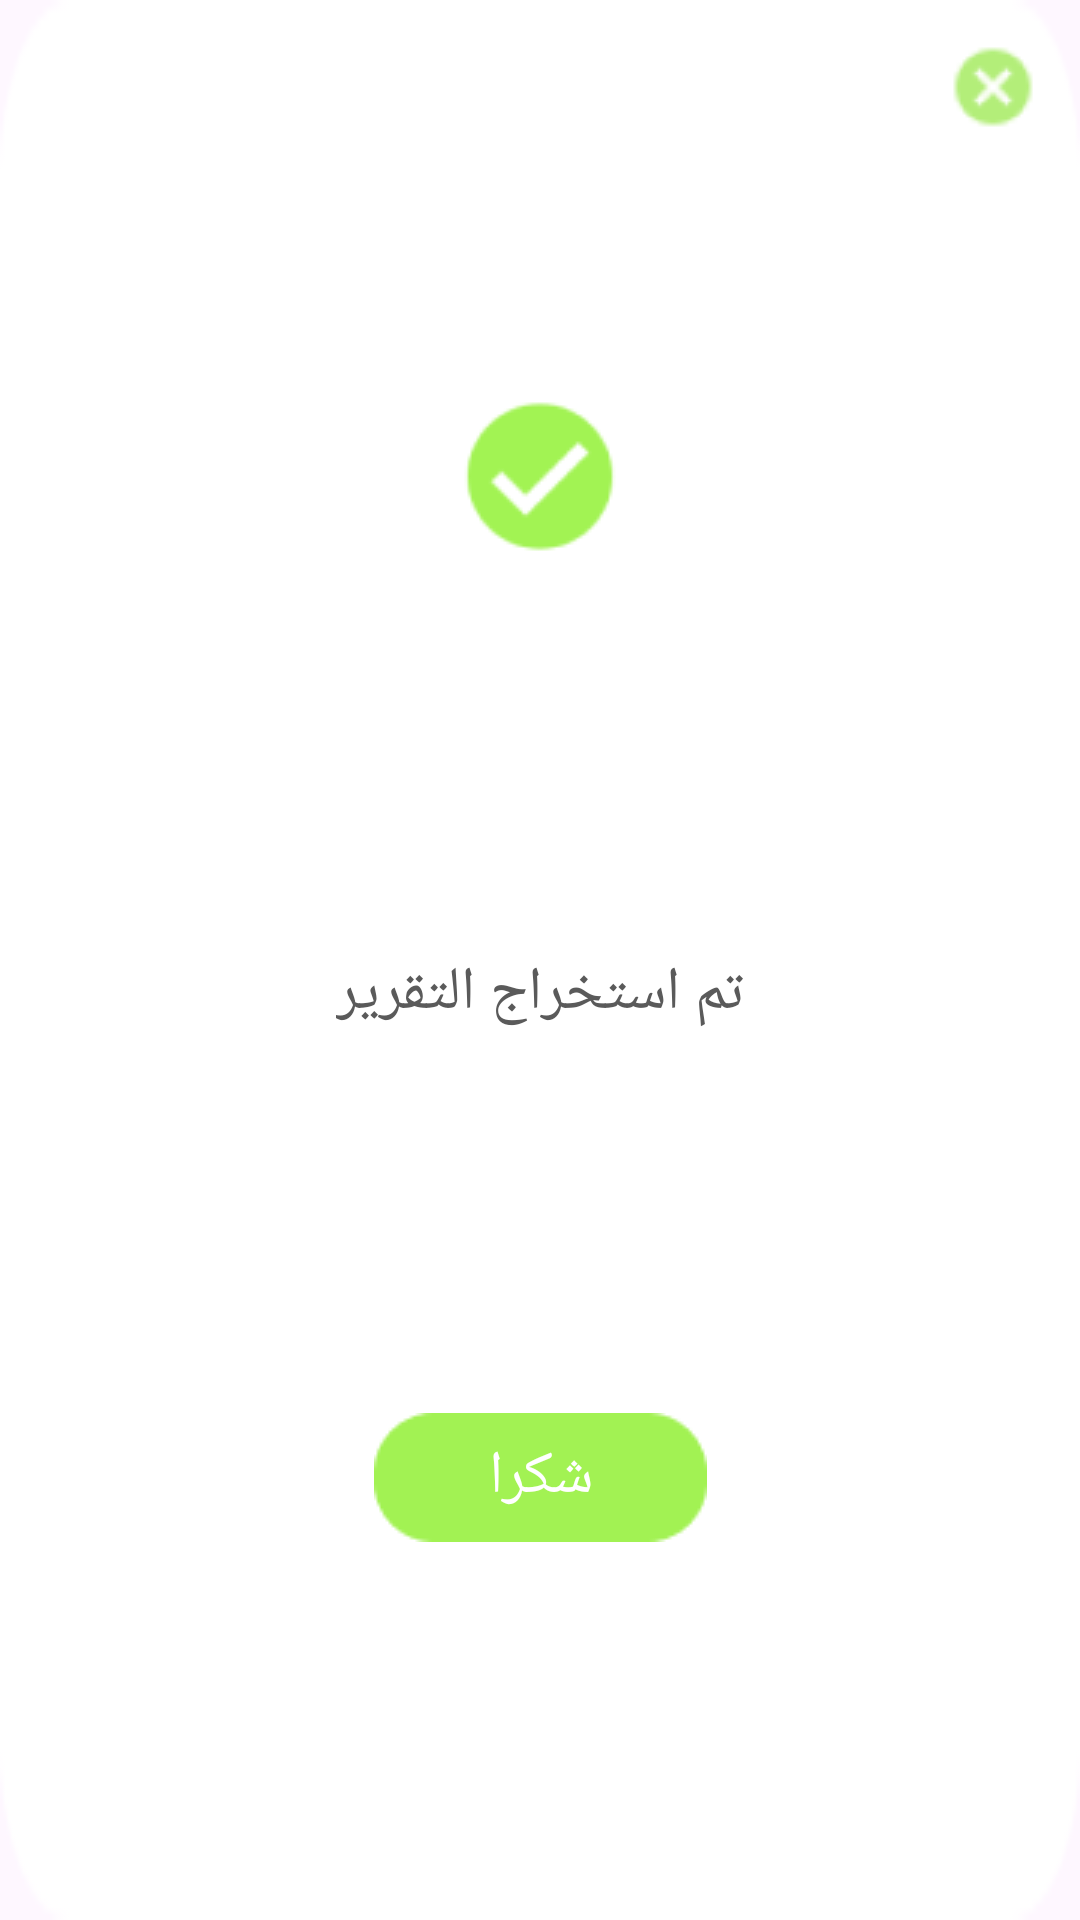

Icons on this 1080×1920 Android screen, each with its box as [x1, y1, x2, y2]:
cancel: [954, 48, 1032, 126]
